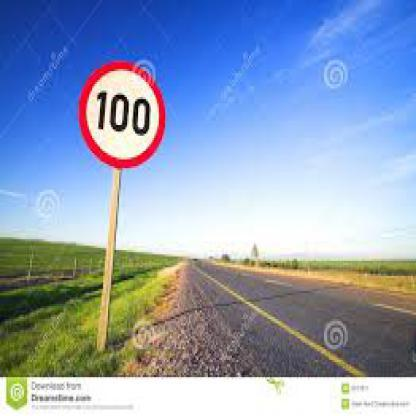Speed Limit 100: (81, 61, 163, 168)
